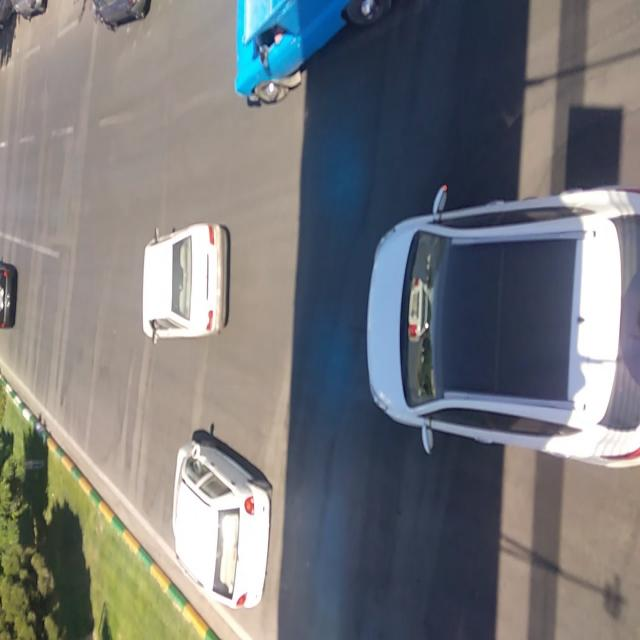car: (365, 180, 639, 466), (234, 1, 390, 112), (172, 432, 270, 608), (140, 218, 230, 346)
